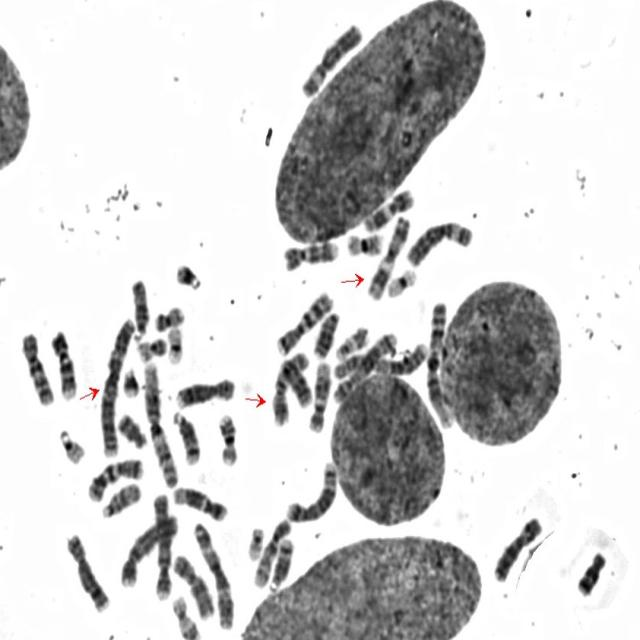A1: (139, 356, 180, 488), (422, 296, 456, 430)
A2: (330, 342, 432, 384), (270, 350, 314, 428)
A3: (95, 316, 142, 459), (190, 516, 236, 632)
B4: (116, 506, 180, 589), (149, 486, 175, 601)
B5: (329, 326, 399, 404), (282, 456, 340, 524)
C10: (249, 513, 293, 590), (17, 326, 56, 408)
C11: (360, 210, 411, 303), (360, 182, 416, 232)
C12: (168, 480, 230, 523), (304, 355, 332, 434)
C6: (297, 17, 365, 99), (403, 214, 475, 268)
C7: (273, 286, 337, 356), (84, 452, 146, 502)
C8: (62, 527, 112, 615), (172, 372, 238, 409)
C9: (47, 325, 79, 401), (280, 234, 340, 273)
D13: (310, 306, 343, 360), (280, 362, 316, 411)
D14: (169, 406, 202, 466), (266, 532, 296, 592)
D15: (97, 476, 144, 519), (128, 274, 152, 343)
E16: (214, 408, 240, 468), (343, 226, 385, 258)
E17: (332, 320, 371, 362), (169, 591, 201, 639)
E18: (573, 545, 609, 598), (113, 406, 150, 449)
F19: (383, 263, 419, 299), (163, 321, 186, 366)
F20: (150, 299, 187, 333), (134, 331, 169, 362)
G21: (171, 256, 204, 293), (118, 361, 142, 400)
G22: (56, 423, 88, 466), (244, 522, 266, 562)
X: (490, 510, 544, 583), (170, 549, 217, 620)
